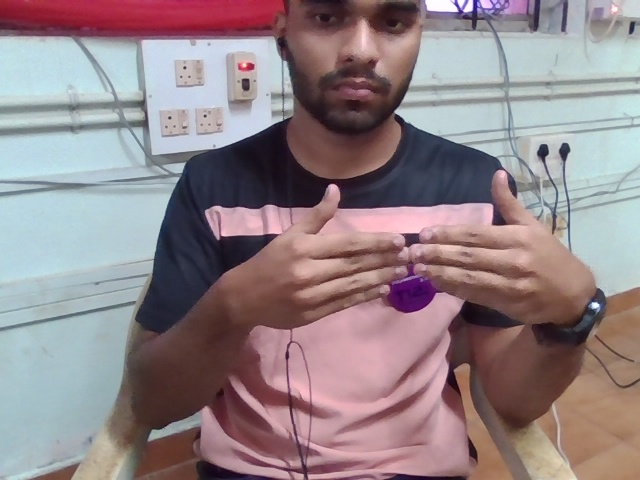more: (249, 158, 612, 377)
